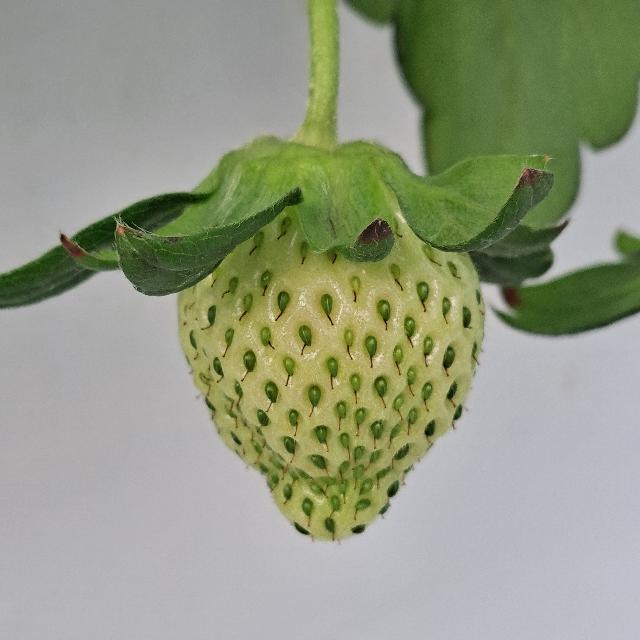Health_25: (177, 206, 485, 542)
